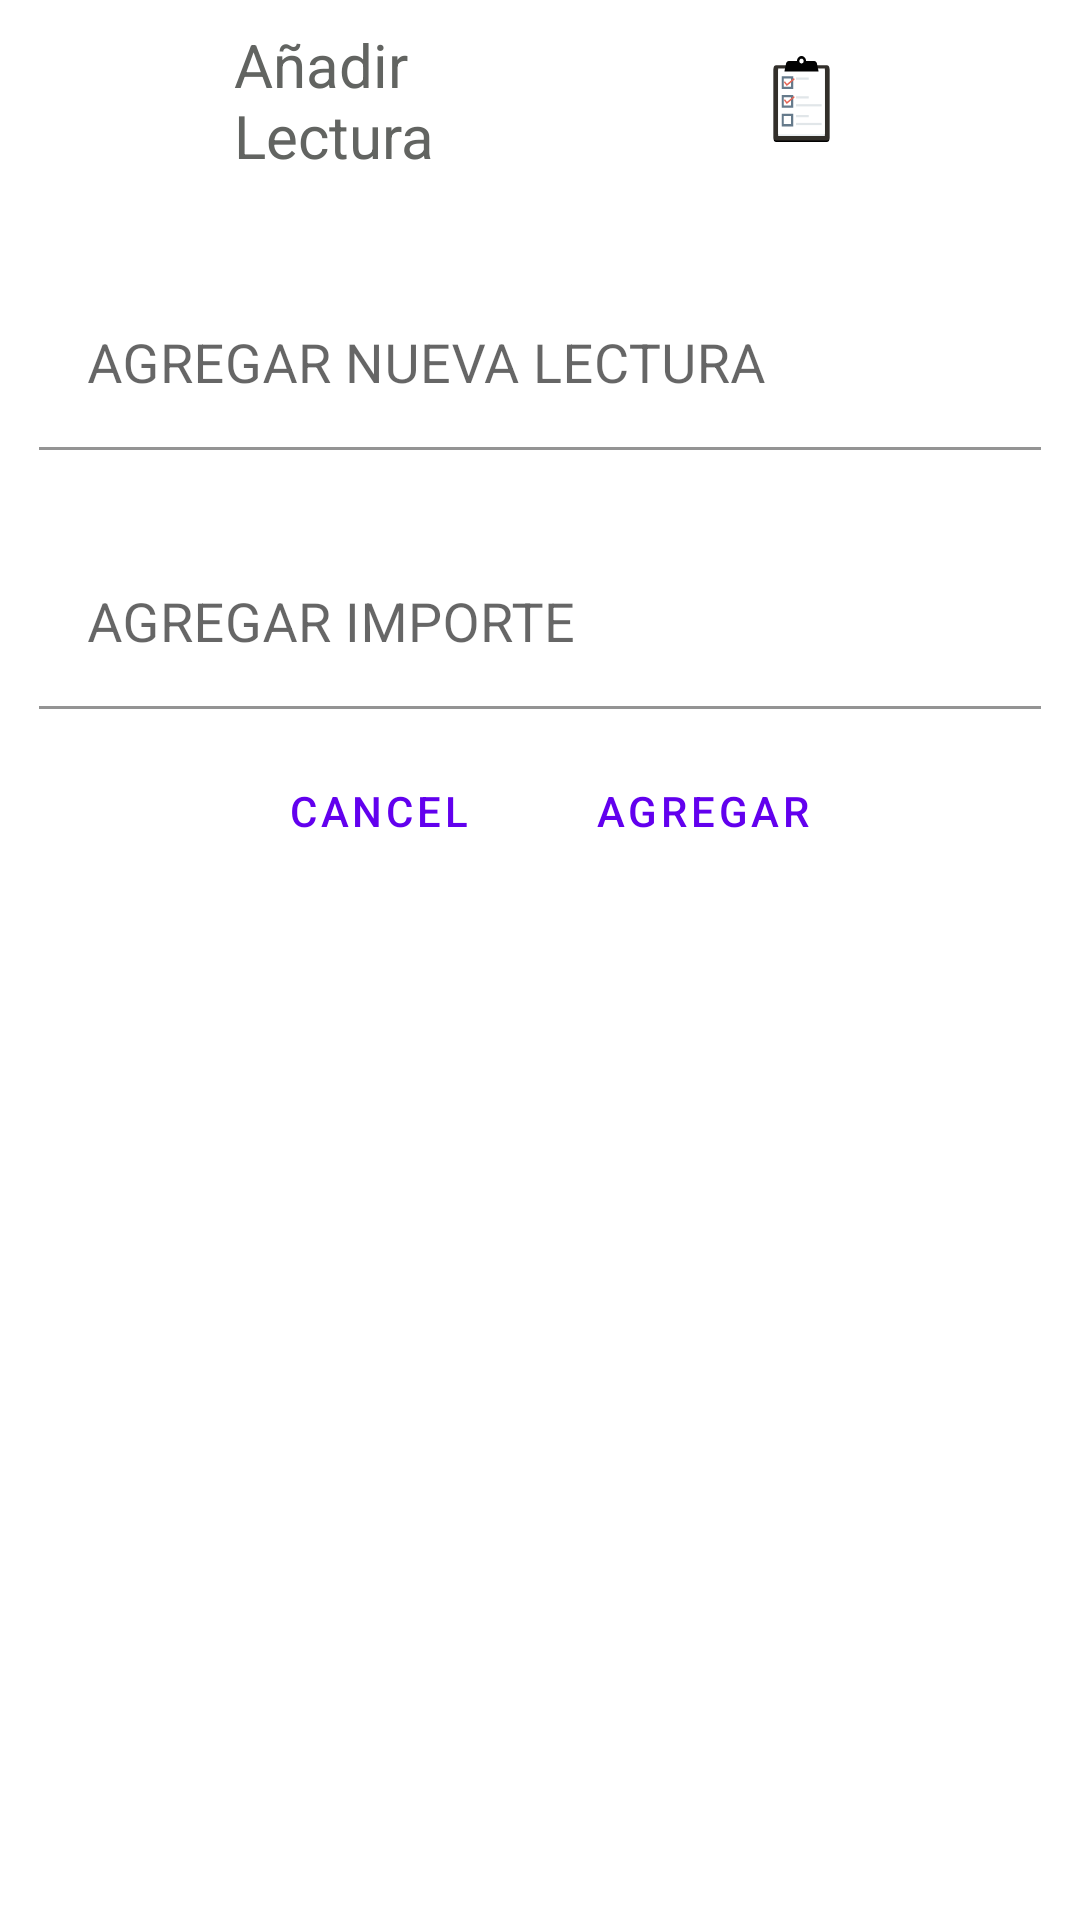

Screen size 1080w x 1920h. Icon name, then its box in pixels as region(x1, y1, x2, y2):
list check: region(773, 56, 830, 142)
